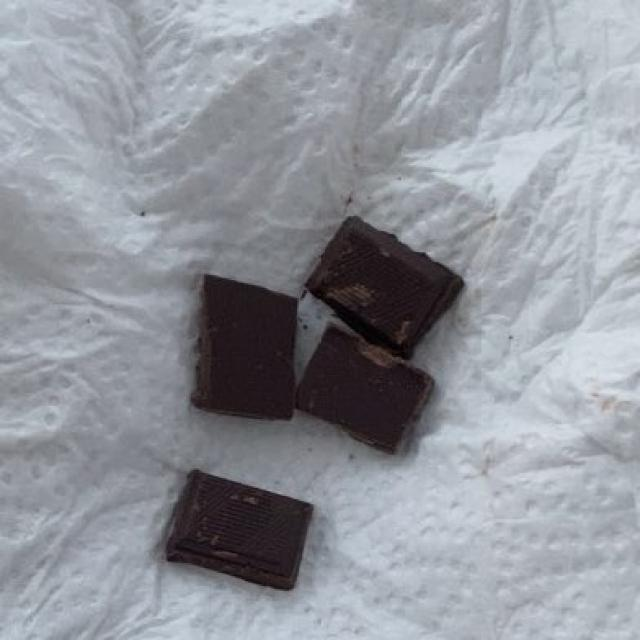chocolate: (154, 211, 466, 601)
